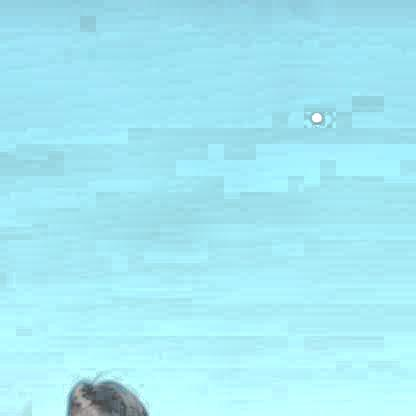golfball: (307, 107, 321, 121)
